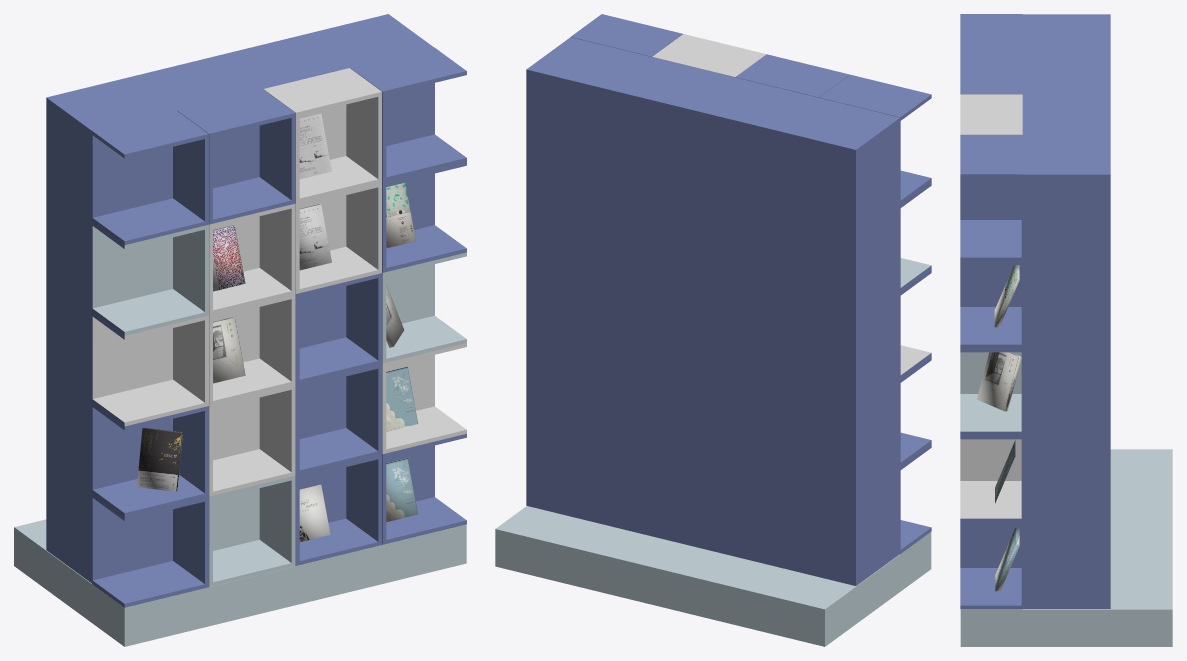
File: 入口书架.gltf
3 views of the same model, side by side, from view 1: azimuth 30°, elevation 25°; view 2: azimuth 150°, elevation 25°; view 3: azimuth 270°, elevation 25° (orthographic). The views are drawn at different scales.
Parts seen in each view (by area): view 1: 克隆.2-材质.9, 克隆.2-材质.10, 立方体.1, 克隆.2-材质.11, 立方体, Box135, Box137, Box132, Box134, Box133, Box130, Box136 (+1 smaller); view 2: 立方体.1, 立方体, 克隆.2-材质.9, 克隆.2-材质.10; view 3: 立方体.1, 克隆.2-材质.9, 立方体, 克隆.2-材质.10, 克隆.2-材质.11, Box131, Box137, Box130.
Part boxes in pixels (box(x1,y1,x2,y2)): 克隆.2-材质.9: box(92, 47, 466, 607); 克隆.2-材质.10: box(92, 68, 466, 496); 立方体.1: box(46, 14, 433, 583); 克隆.2-材质.11: box(92, 224, 466, 587); 立方体: box(14, 519, 466, 646); Box135: box(299, 113, 331, 270); Box137: box(386, 366, 418, 522); Box132: box(137, 428, 182, 491); Box134: box(213, 317, 245, 383); Box133: box(213, 225, 245, 291); Box130: box(386, 182, 415, 248); Box136: box(299, 484, 330, 541); 立方体.1: box(526, 37, 900, 585); 立方体: box(495, 506, 931, 646); 克隆.2-材质.9: box(571, 14, 931, 554); 克隆.2-材质.10: box(652, 34, 931, 374); 立方体.1: box(1022, 14, 1110, 608); 克隆.2-材质.9: box(960, 14, 1022, 609); 立方体: box(960, 449, 1172, 646); 克隆.2-材质.10: box(960, 94, 1022, 518); 克隆.2-材质.11: box(960, 352, 1021, 431); Box131: box(977, 352, 1021, 411); Box137: box(995, 440, 1019, 591); Box130: box(994, 265, 1019, 328).
Bounding box in the file's own units: 5.37 × 7.39 × 3.01.
Materials: 11 (8 with a texture image).
